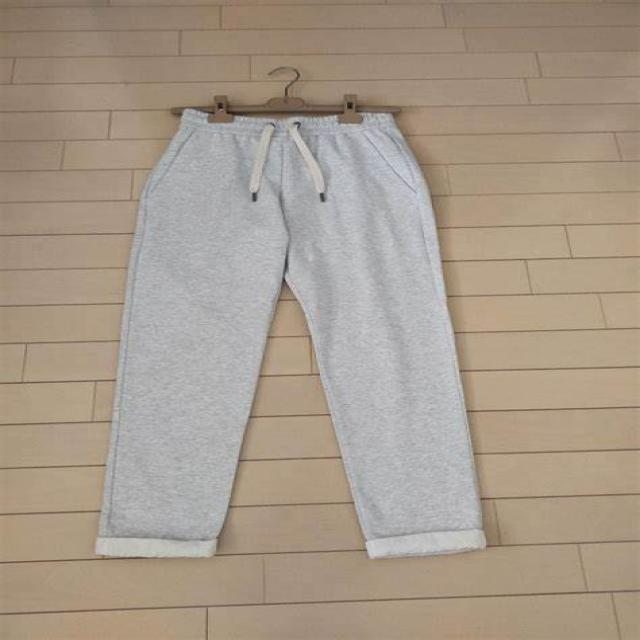long-pants: (91, 105, 491, 560)
